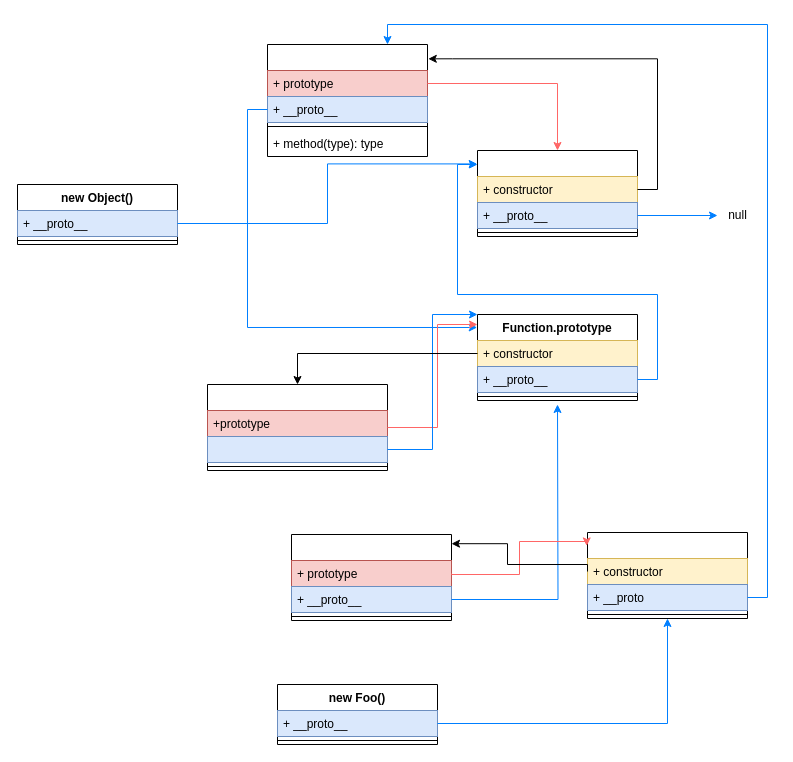
This 793x762 diagram has some shape labels left out. The shapes that lost their labels are listed below. From the top down, each one's box as (x1, y1, x2, y2) in pixels, then its label:
(266, 44, 428, 156): Object() 构造函数
(476, 150, 638, 236): Object.prototype
(206, 384, 388, 470): Function() 构造函数
(206, 436, 388, 462): +__proto__
(290, 534, 452, 620): Fun() 函数
(586, 532, 748, 618): Fun.prototype
